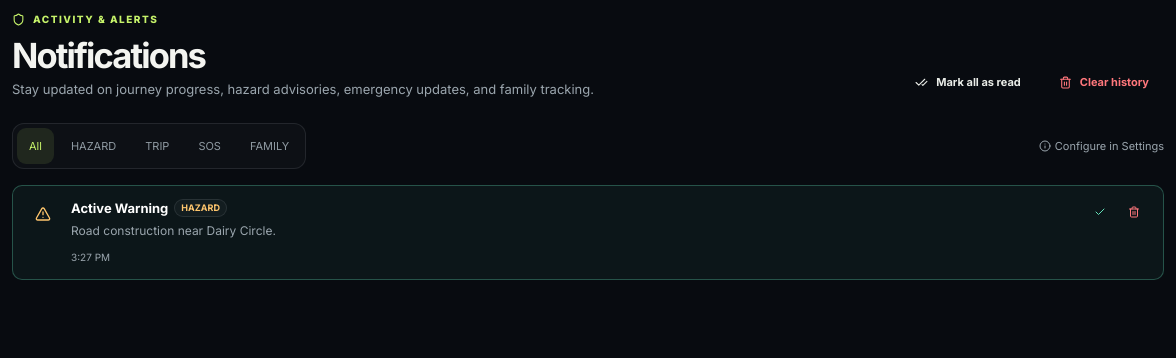
Phase 5: Trip Monitoring, Controlled Family Sharing, Unified Police Incident Center & Notifications › 4. Notification Center & Preferences › renders Notifications page with category tabs, empty state, and clear actions
Expected: the text "Active Warning" is shown, x1=71 y1=198 x2=168 y2=218
Expected: the button "Mark all as read" is shown, x1=900 y1=65 x2=1036 y2=99
Note: Click Clear all
Click the button "Clear history": (1104, 82) x1=1044 y1=65 x2=1164 y2=99
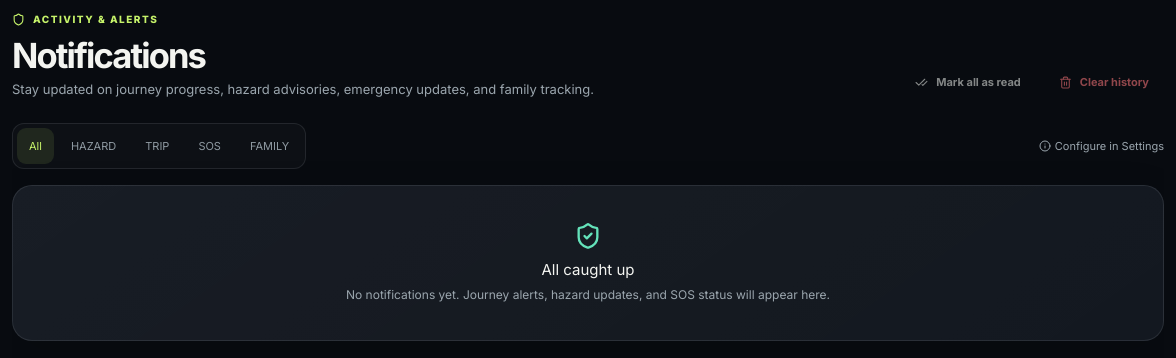
Expected: the heading "All caught up" is shown, x1=542 y1=260 x2=635 y2=279
